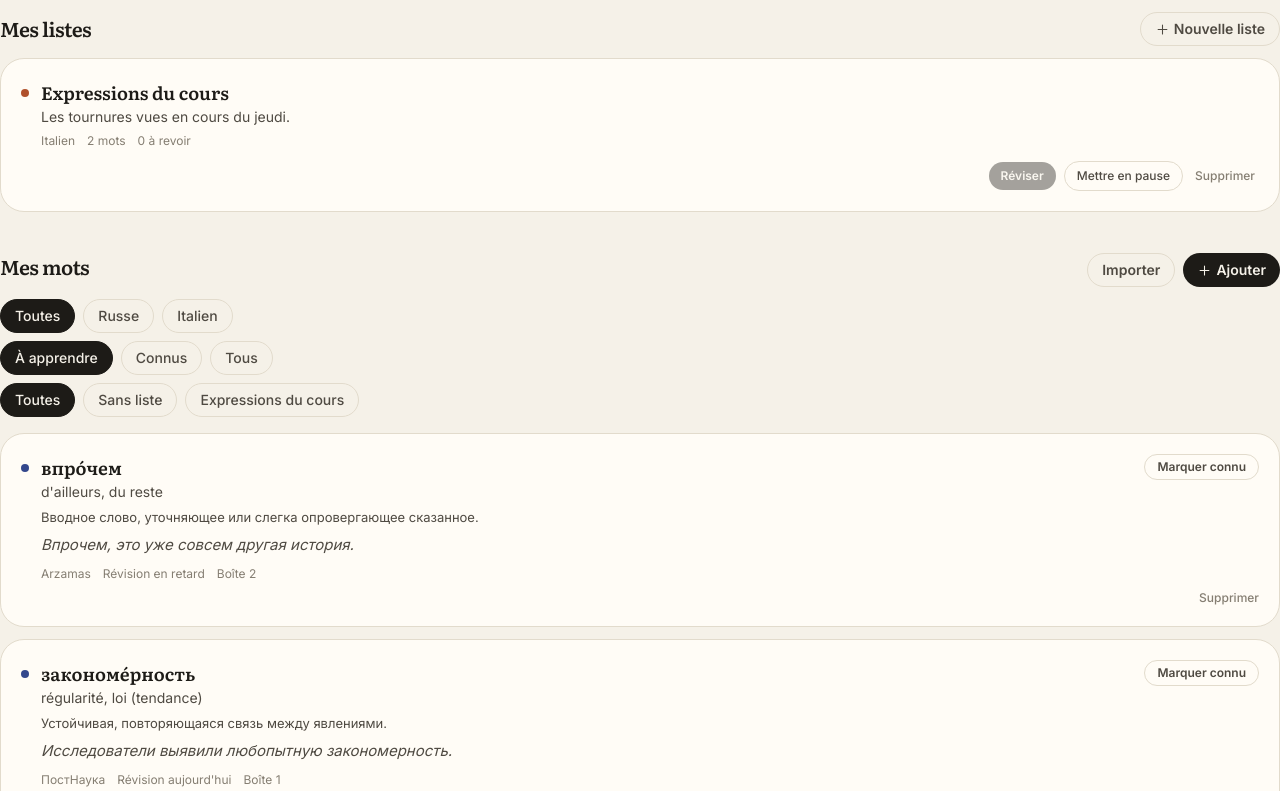
it: VocabularyView › lists › filters the words by list and marks them with their list
(page scrolled)
Click the button "Expressions du cours". click: click(272, 400)
box: [186,383,359,417]
(page scrolled)
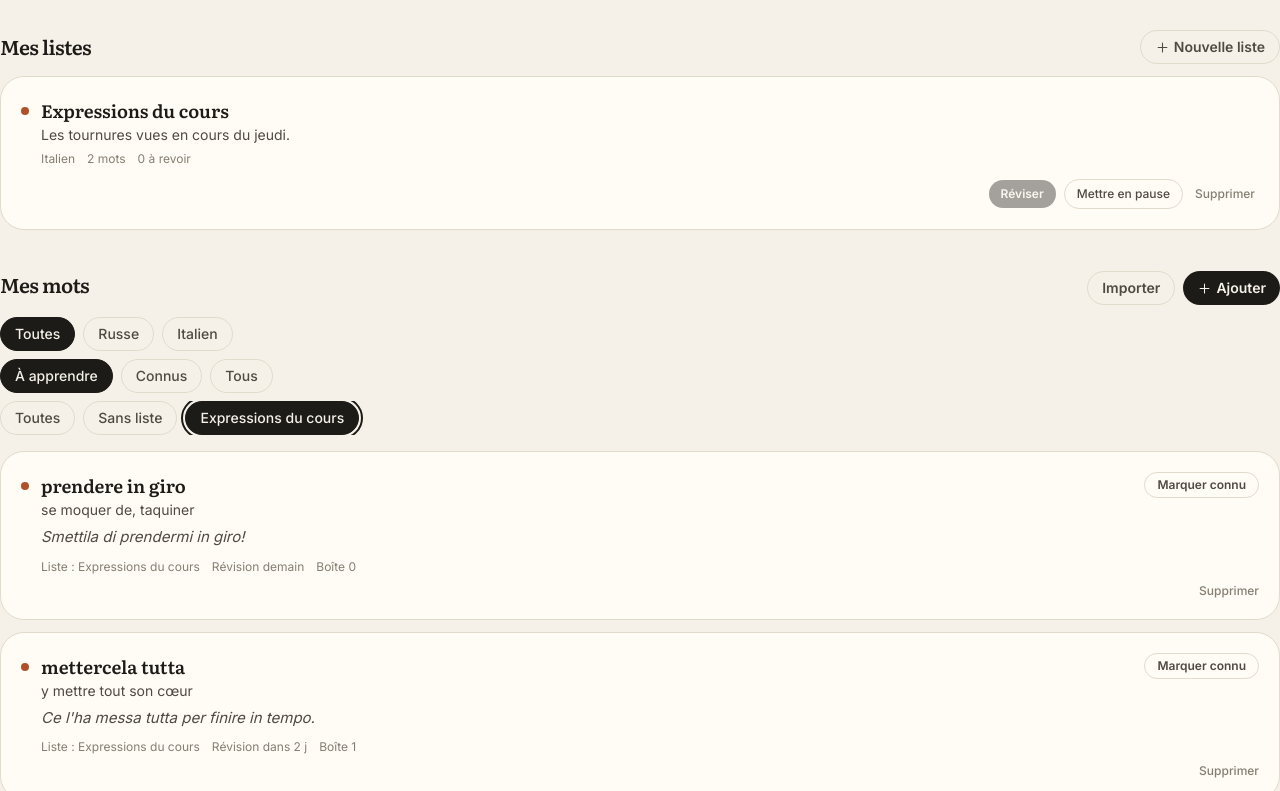
Expected: the text "mettercela tutta" is shown, [41,652,185,680]
Now the text "Liste : Expressions du cours" is shown 2 times, box [41,558,200,574]; [41,739,200,755]
Click the button "Sans liste". click: click(130, 418)
box: [83,401,177,435]
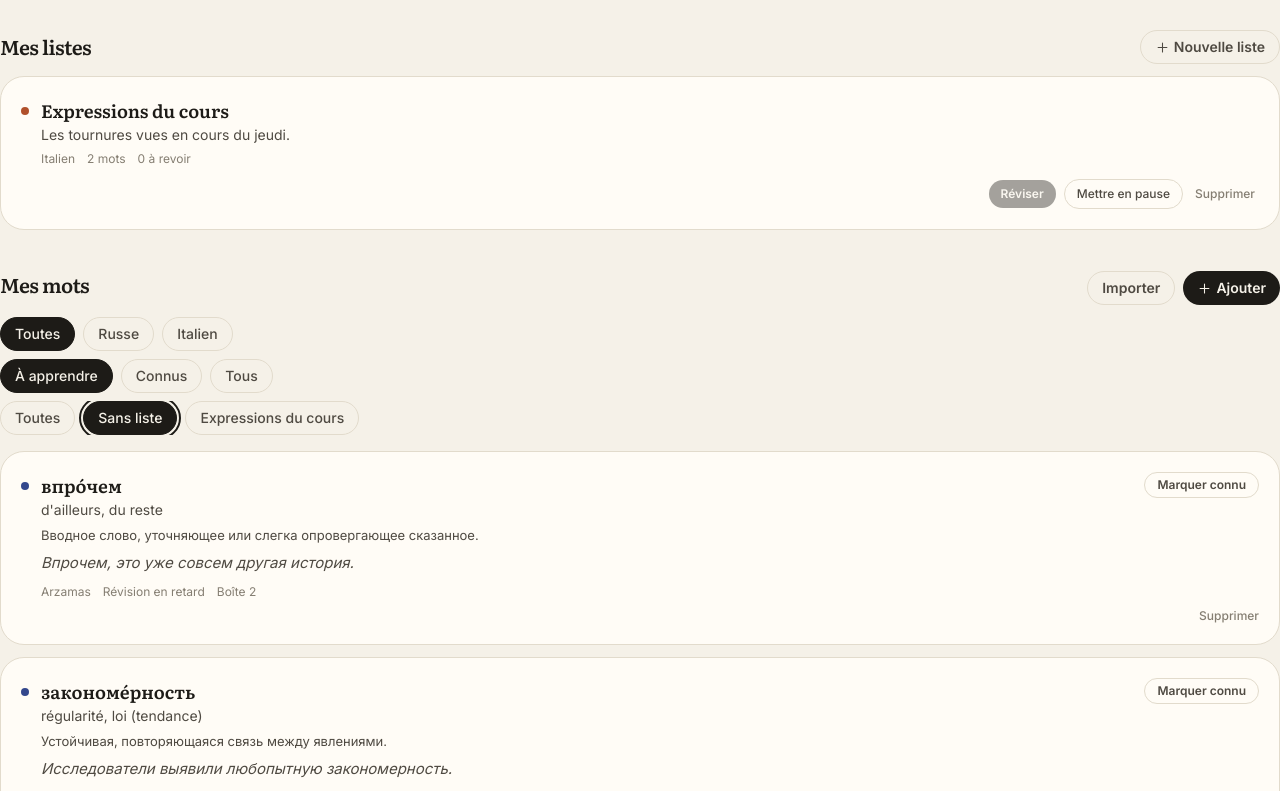
Now the text "mettercela tutta" is gone
Now the text "впро́чем" is shown, box [41,472,122,499]
Now the text "Liste :" is gone
